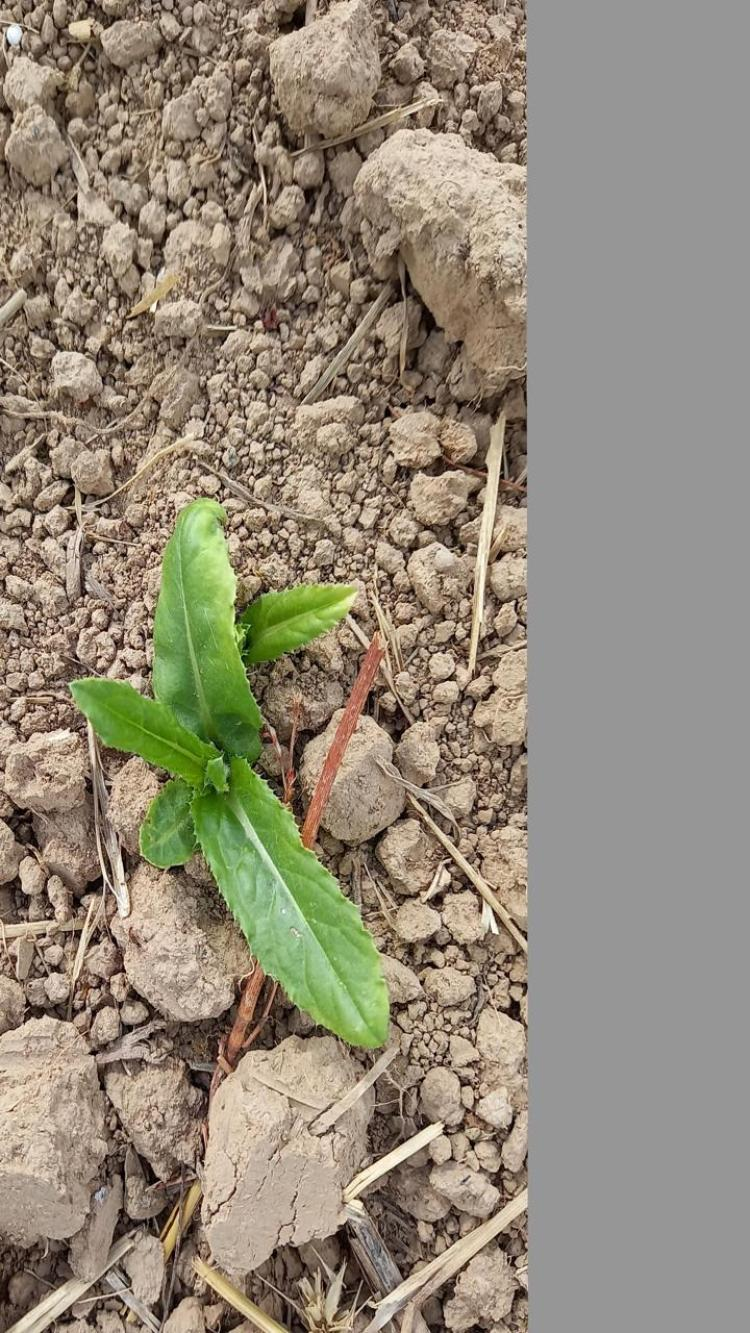bodyak: (84, 516, 414, 1048)
